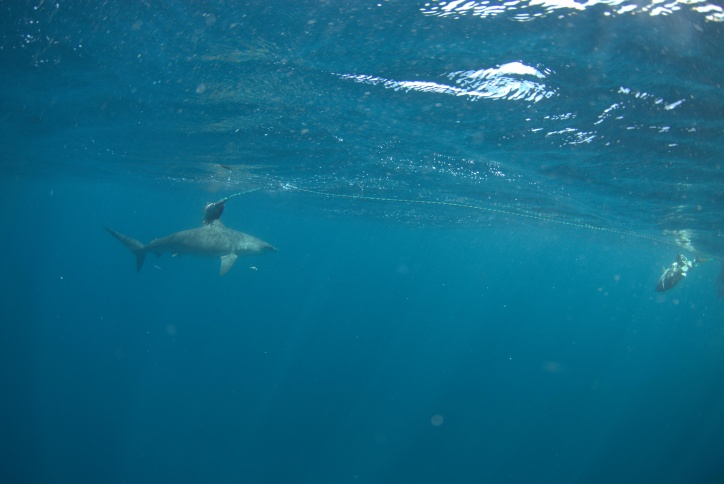Hammer: (95, 191, 300, 286)
